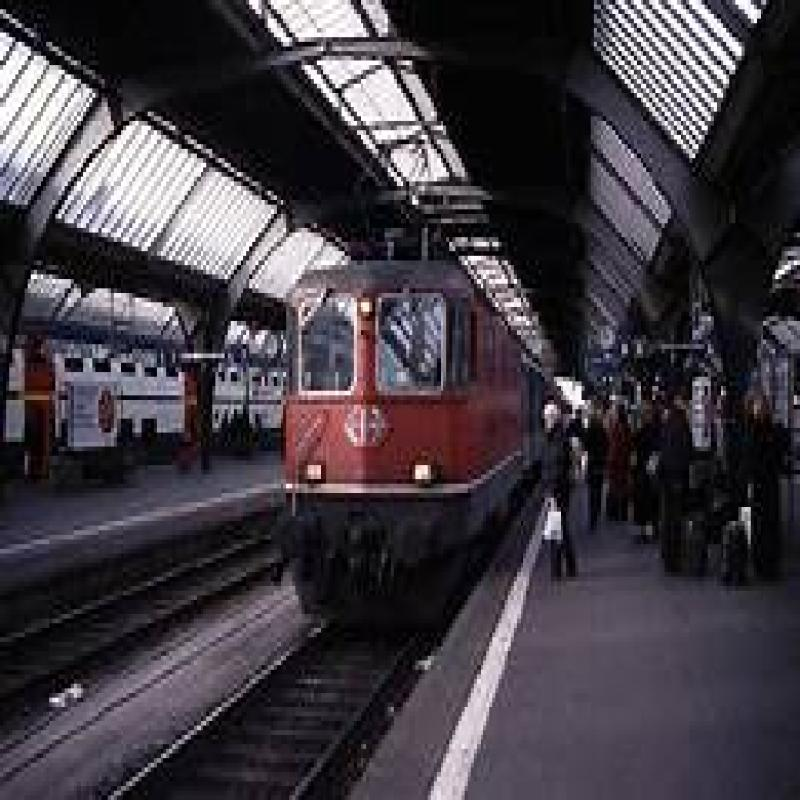train: (275, 243, 496, 596)
